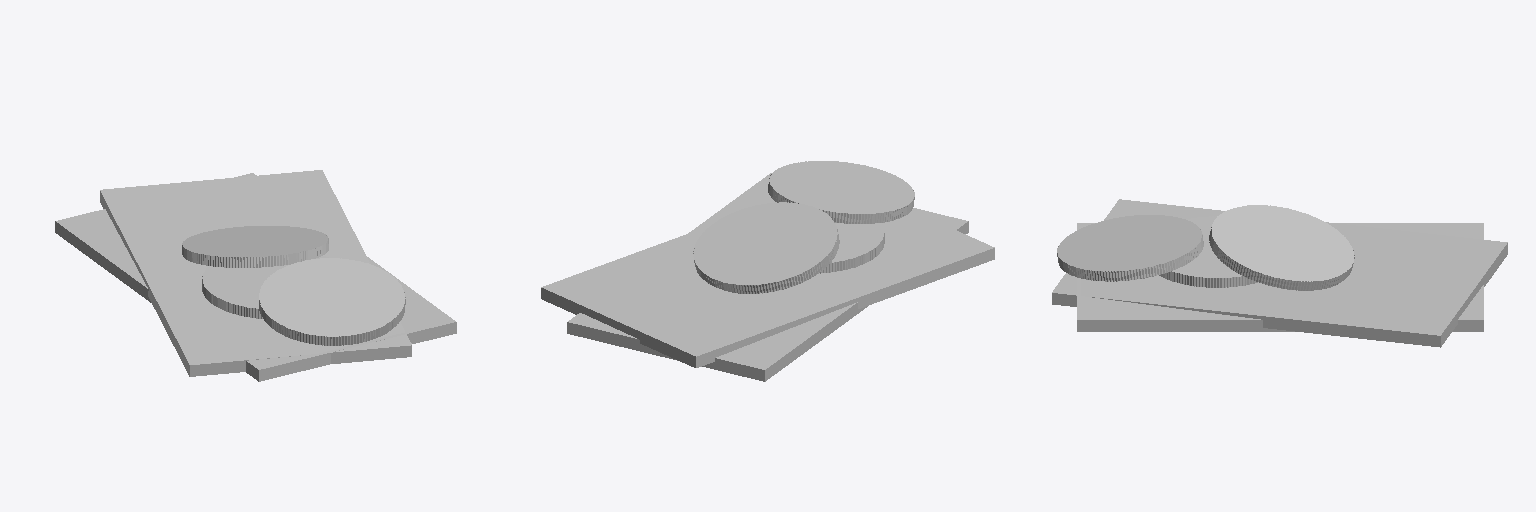
Rendered from Money.obj.
3 renders of one model, left to right at view 1: azimuth 30°, elevation 25°; view 2: azimuth 150°, elevation 25°; view 3: azimuth 270°, elevation 25°, orthographic.
Size of the model in its own units: 0.4364 by 0.0793 by 0.5887.